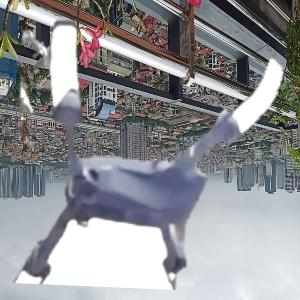drone: (17, 11, 297, 291)
